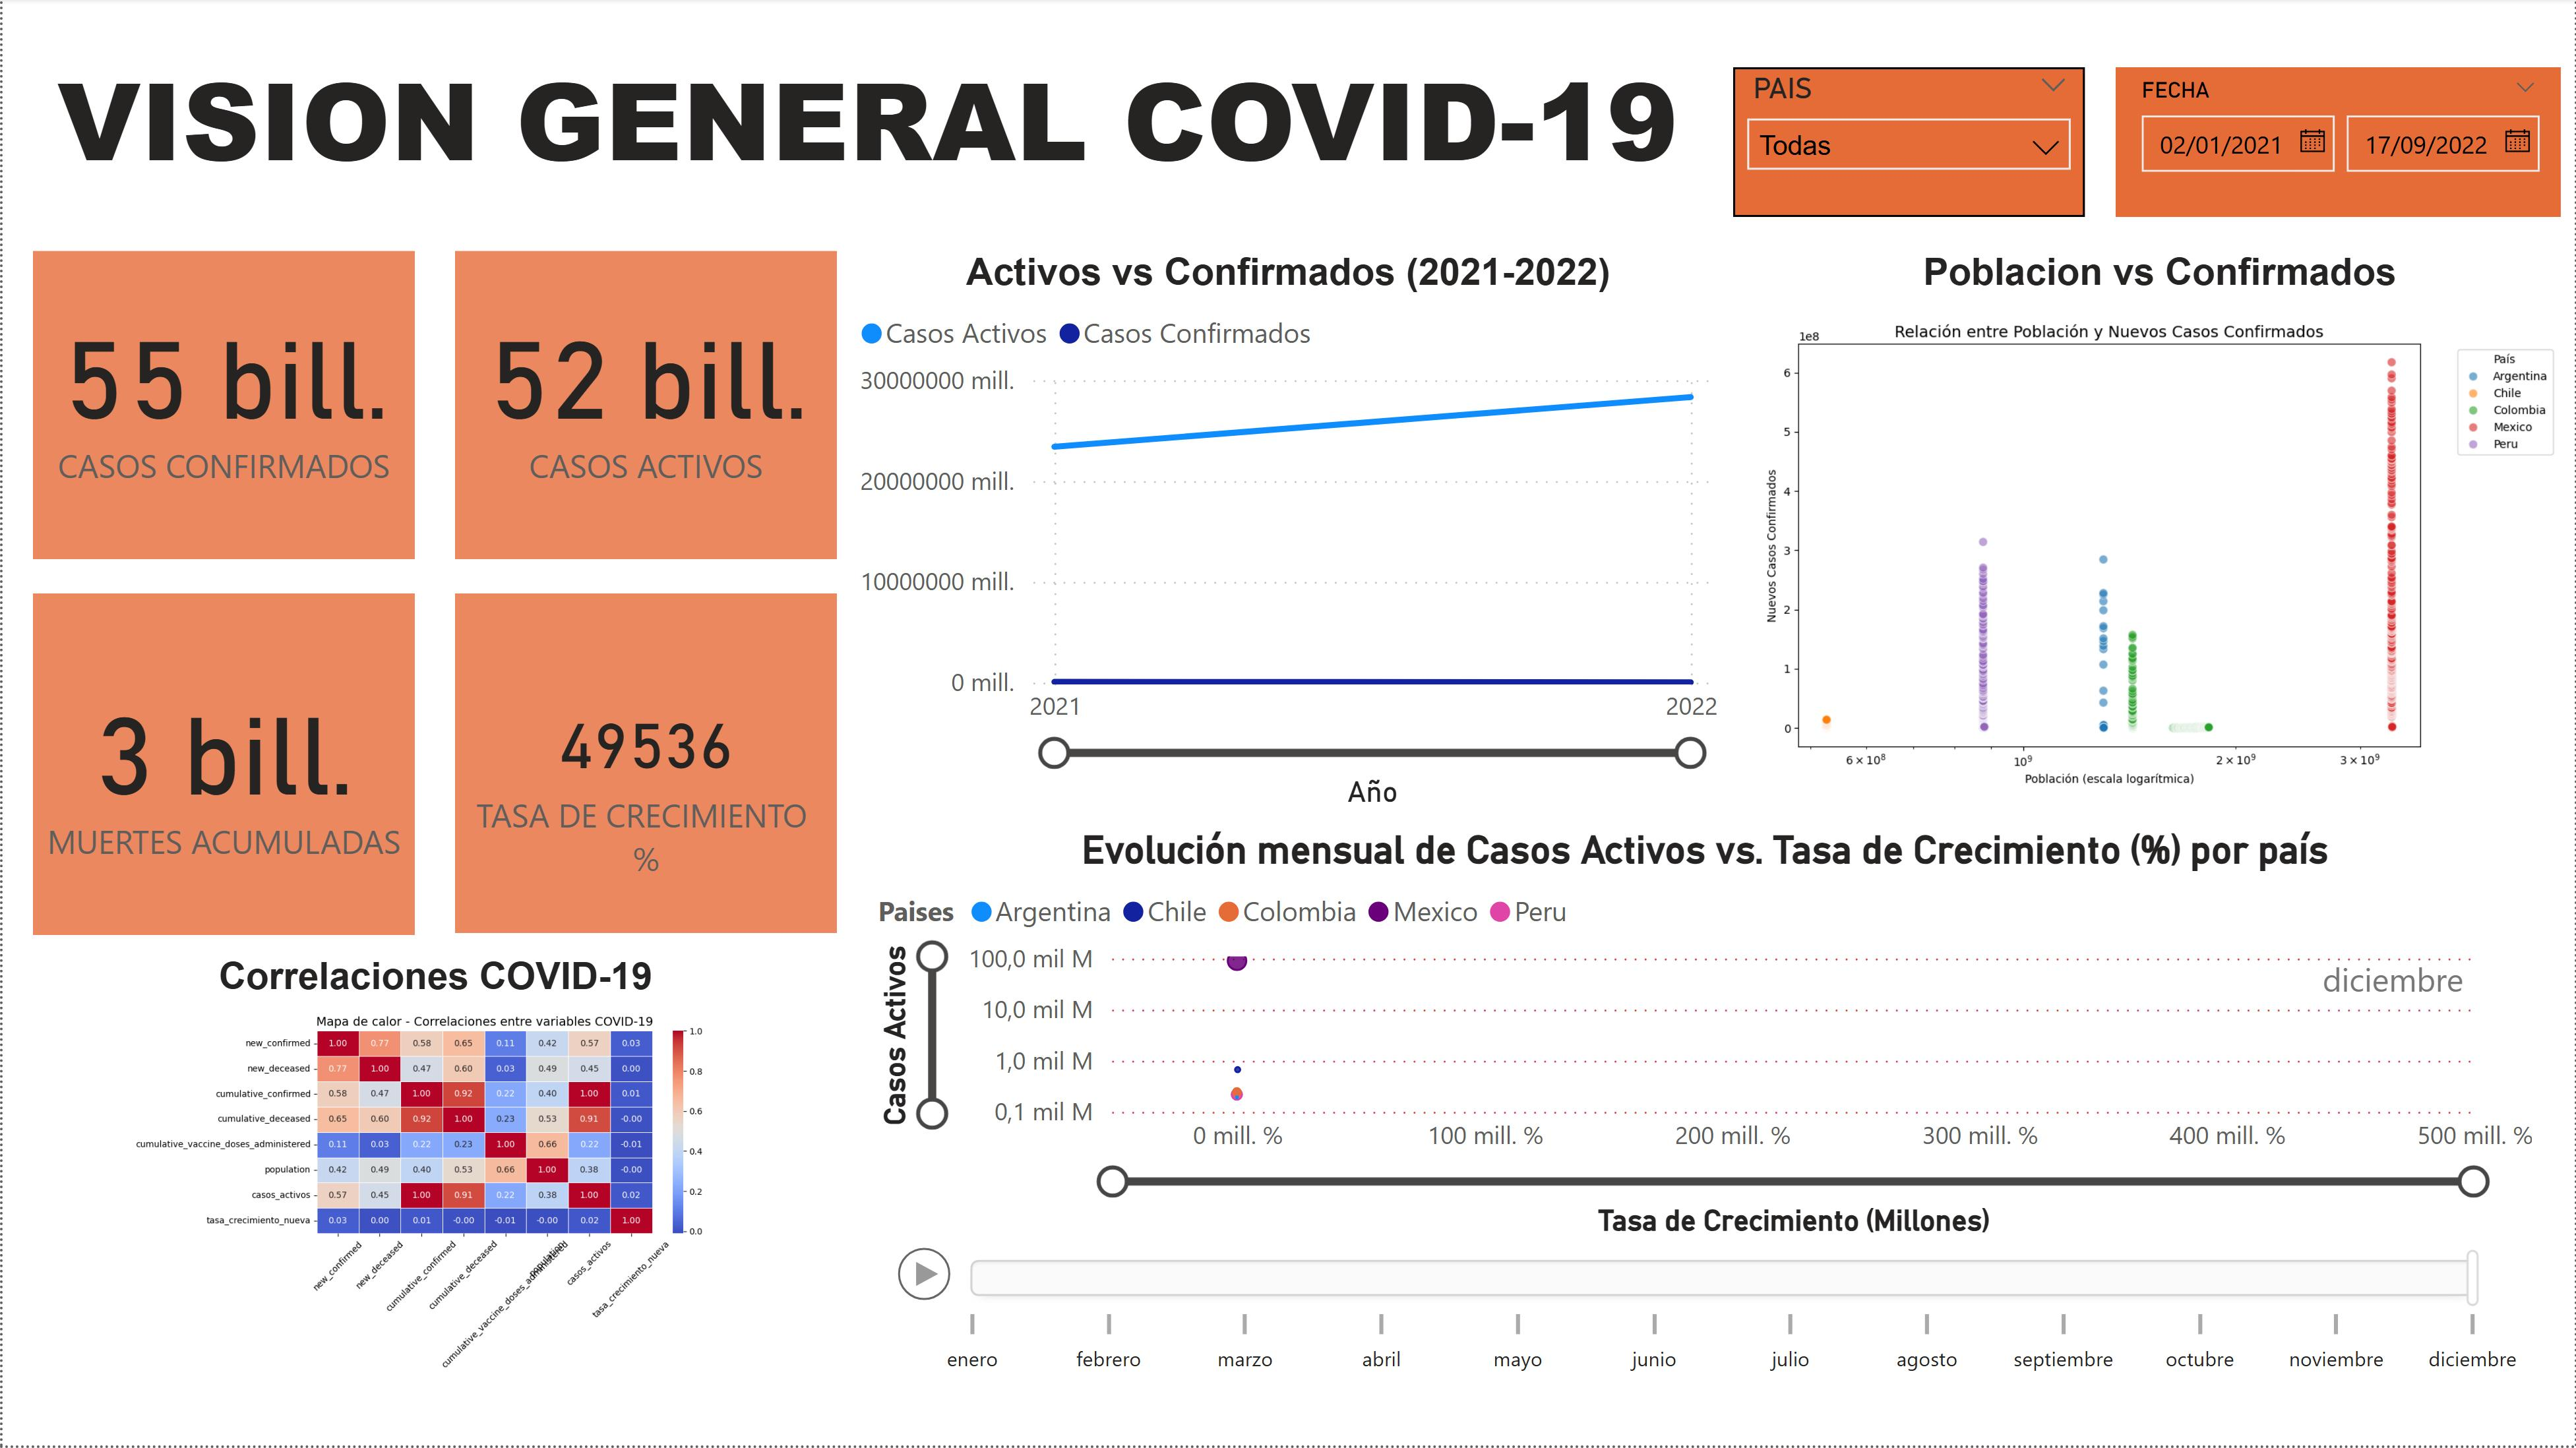

This screenshot's page, from the dashboard's own definition file:
{"tool":"powerbi","page":{"name":"Vision General","canvas":[1280,720],"ordinal":0},"visuals":[{"type":"card","fields":{"Values":["Sum(DatosFinalesFiltrado.cumulative_confirmed)"]},"box":[14.9,108.6,190.1,169.8],"z":0},{"type":"card","fields":{"Values":["Sum(DatosFinalesFiltrado.cumulative_deceased)"]},"box":[14.9,296.1,190.1,169.8],"z":1000},{"type":"card","fields":{"Values":["Sum(DatosFinalesFiltrado.casos_activos)"]},"box":[225.4,108.6,190.1,169.8],"z":2000},{"type":"card","fields":{"Values":["DatosFinalesFiltrado.Tasa de Crecimiento %"]},"box":[225.4,296.1,190.1,169],"z":3000},{"type":"slicer","fields":{"Values":["DatosFinalesFiltrado.country_name"]},"box":[861,34,175.2,74.7],"z":4000},{"type":"slicer","fields":{"Values":["DatosFinalesFiltrado.date"]},"box":[1051.2,34,221.4,74.7],"z":5000},{"type":"lineChart","title":"Activos vs Confirmados (2021-2022)","fields":{"Category":["DatosFinalesFiltrado.date.Variación.Jerarquía de fechas.Año","DatosFinalesFiltrado.date.Variación.Jerarquía de fechas.Trimestre","DatosFinalesFiltrado.date.Variación.Jerarquía de fechas.Mes","DatosFinalesFiltrado.date.Variación.Jerarquía de fechas.Día"],"Y":["Sum(DatosFinalesFiltrado.casos_activos)","Sum(DatosFinalesFiltrado.new_confirmed)"]},"box":[421.7,125.6,436.6,281.8],"z":6000},{"type":"pythonVisual","title":"Correlaciones COVID-19","fields":{"Values":["DatosFinalesFiltrado.new_confirmed","DatosFinalesFiltrado.new_deceased","DatosFinalesFiltrado.cumulative_confirmed","DatosFinalesFiltrado.cumulative_deceased","DatosFinalesFiltrado.cumulative_vaccine_doses_administered","DatosFinalesFiltrado.population","DatosFinalesFiltrado.casos_activos","DatosFinalesFiltrado.tasa_crecimiento_nueva"]},"box":[14.9,476,400.6,215.9],"z":7000},{"type":"pythonVisual","title":"Poblacion vs Confirmados","fields":{"Values":["DatosFinalesFiltrado.country_name","DatosFinalesFiltrado.population","DatosFinalesFiltrado.new_confirmed"]},"box":[867.1,125.6,412.9,281.8],"z":8000},{"type":"scatterChart","title":"Evolución mensual de Casos Activos vs. Tasa de Crecimiento (%) por país","fields":{"Y":["Max(DatosFinalesFiltrado.casos_activos)"],"X":["Sum(DatosFinalesFiltrado.tasa_crecimiento_nueva)"],"Play":["DatosFinalesFiltrado.date.Variación.Jerarquía de fechas.Mes"],"Series":["DatosFinalesFiltrado.country_name"],"Size":["Max(DatosFinalesFiltrado.cumulative_vaccine_doses_administered)"]},"box":[430.5,412.2,833.2,288.6],"z":9000},{"type":"textbox","box":[0,17,861,108.6],"z":10000}]}

Visuals, with their boxes in screenshot pixels (x1, y1, x2, y2), scaled from the page's 1280x720 canvas onto the 2576x1448 screenshot:
card - Sum(DatosFinalesFiltrado.cumulative_confirmed): detection(30, 218, 413, 560)
card - Sum(DatosFinalesFiltrado.cumulative_deceased): detection(30, 595, 413, 937)
card - Sum(DatosFinalesFiltrado.casos_activos): detection(454, 218, 836, 560)
card - DatosFinalesFiltrado.Tasa de Crecimiento %: detection(454, 595, 836, 936)
slicer - DatosFinalesFiltrado.country_name: detection(1733, 69, 2085, 219)
slicer - DatosFinalesFiltrado.date: detection(2116, 69, 2561, 219)
"Activos vs Confirmados (2021-2022)" lineChart: detection(849, 253, 1727, 820)
"Correlaciones COVID-19" pythonVisual: detection(30, 957, 836, 1391)
"Poblacion vs Confirmados" pythonVisual: detection(1745, 253, 2575, 820)
"Evolución mensual de Casos Activos vs. Tasa de Crecimiento (%) por país" scatterChart: detection(867, 829, 2543, 1409)
textbox: detection(0, 34, 1733, 253)
